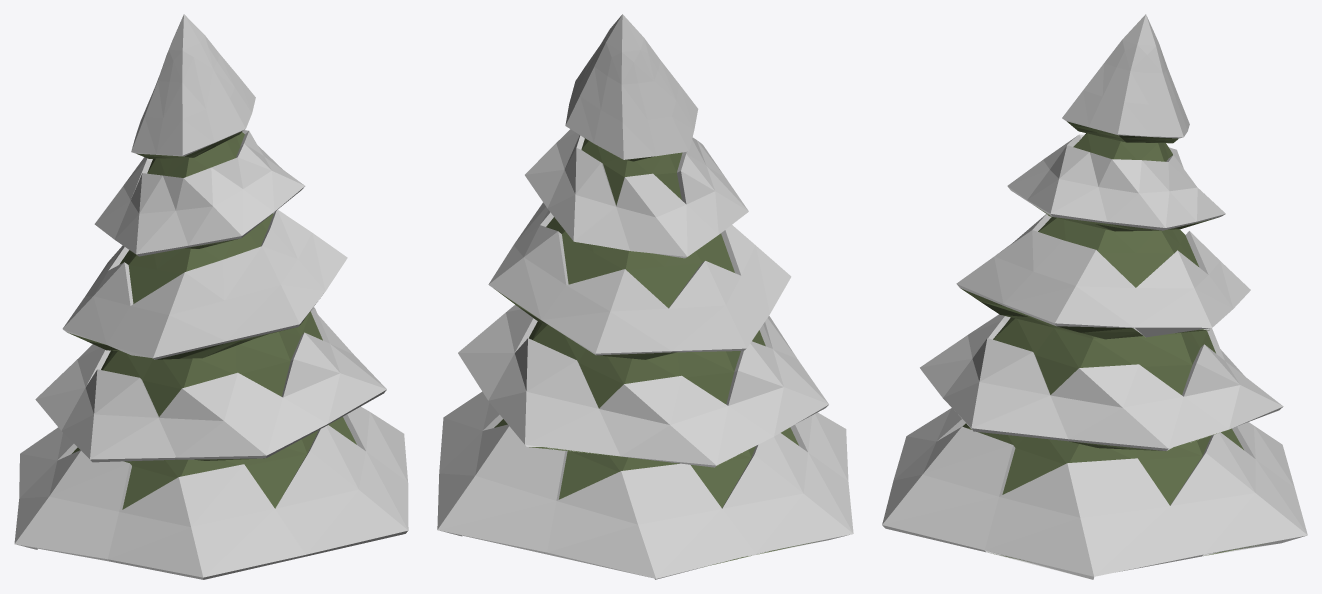
Rendered from TreeSnow.fbx.
3 views of the same model, side by side, from view 1: azimuth 30°, elevation 25°; view 2: azimuth 150°, elevation 25°; view 3: azimuth 270°, elevation 25° (orthographic). The views are drawn at different scales.
Visible parts, largest first — view 1: TreeSnow.001; view 2: TreeSnow.001; view 3: TreeSnow.001.
Boxes of the visible parts, x1,y1,x2,y2 form: TreeSnow.001: (14, 14, 408, 579); TreeSnow.001: (437, 14, 853, 579); TreeSnow.001: (882, 14, 1307, 579).
Bounding box in the file's own units: 317 × 405 × 290.
